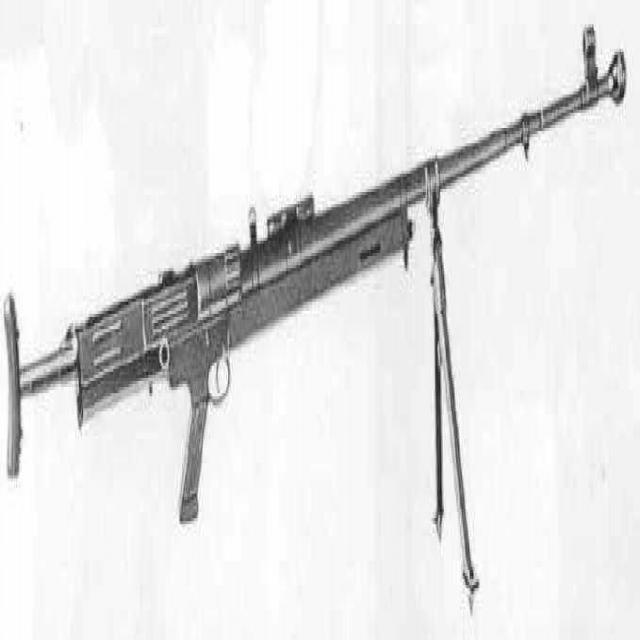weapon: (2, 9, 630, 567)
